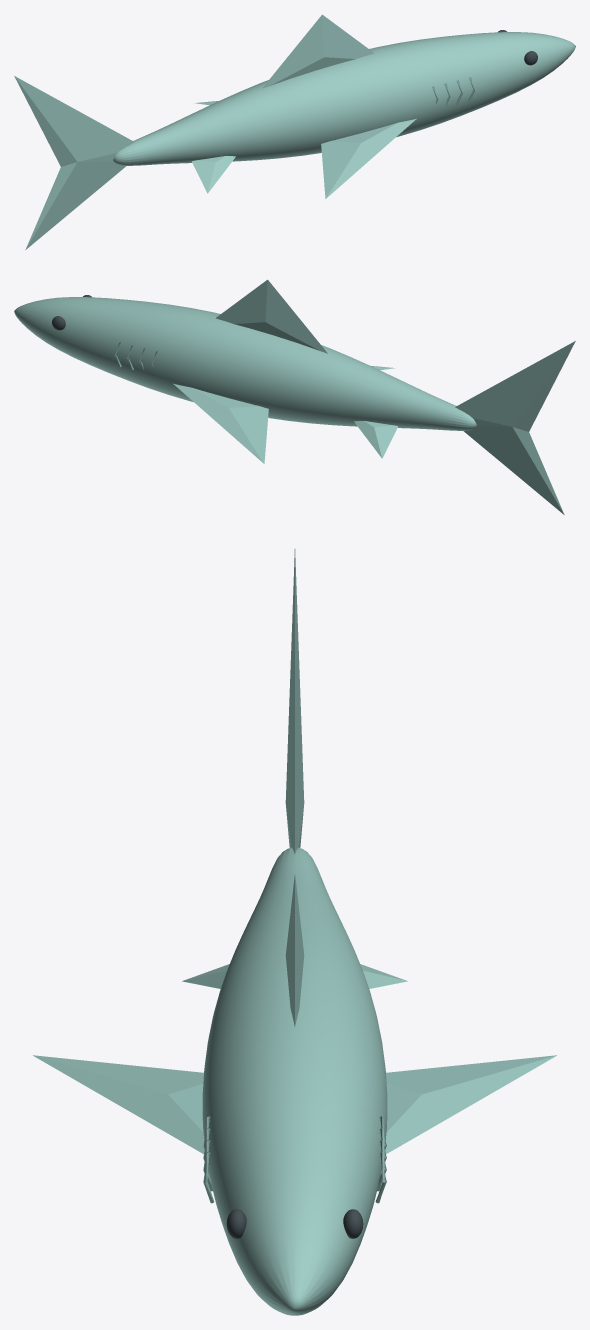
The picture shows the model from 3 angles, top to bottom: view 1: azimuth 30°, elevation 25°; view 2: azimuth 150°, elevation 25°; view 3: azimuth 270°, elevation 25°; orthographic projection. The views are drawn at different scales.
Visible parts, largest first — view 1: Body, Tail, Dorsal, Pectoral, Pelvic; view 2: Body, Tail, Dorsal, Pectoral.001, Pelvic.001; view 3: Body, Pectoral.001, Pectoral, Tail, Dorsal.
Boxes of the visible parts, left/top/right/bottom form: Body: left=113, top=32, right=575, bottom=165; Tail: left=14, top=76, right=134, bottom=249; Dorsal: left=262, top=14, right=373, bottom=88; Pectoral: left=321, top=118, right=416, bottom=198; Pelvic: left=191, top=156, right=235, bottom=193; Body: left=14, top=297, right=476, bottom=430; Tail: left=455, top=341, right=575, bottom=514; Dorsal: left=216, top=279, right=327, bottom=353; Pectoral.001: left=173, top=383, right=268, bottom=463; Pelvic.001: left=354, top=421, right=398, bottom=458; Body: left=202, top=847, right=387, bottom=1315; Pectoral.001: left=385, top=1055, right=556, bottom=1153; Pectoral: left=33, top=1055, right=204, bottom=1153; Tail: left=285, top=549, right=304, bottom=853; Dorsal: left=285, top=875, right=304, bottom=1026.
Bounding box in the file's own units: 252 × 76 × 102.
